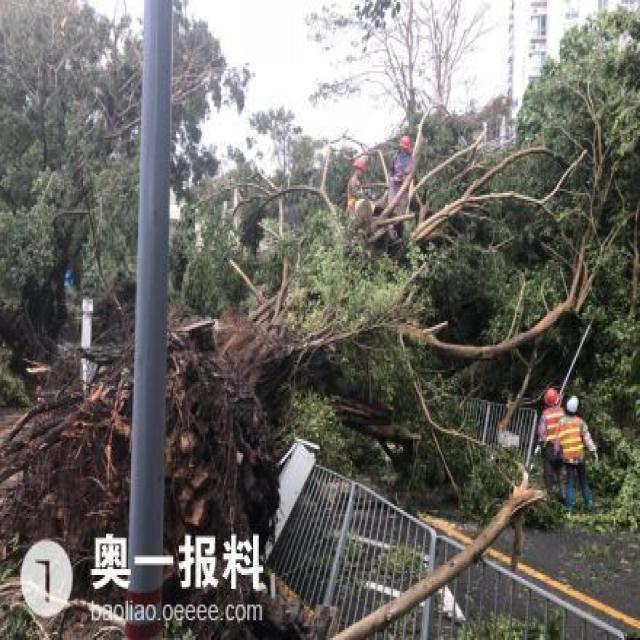fallen_object: (1, 100, 592, 540)
